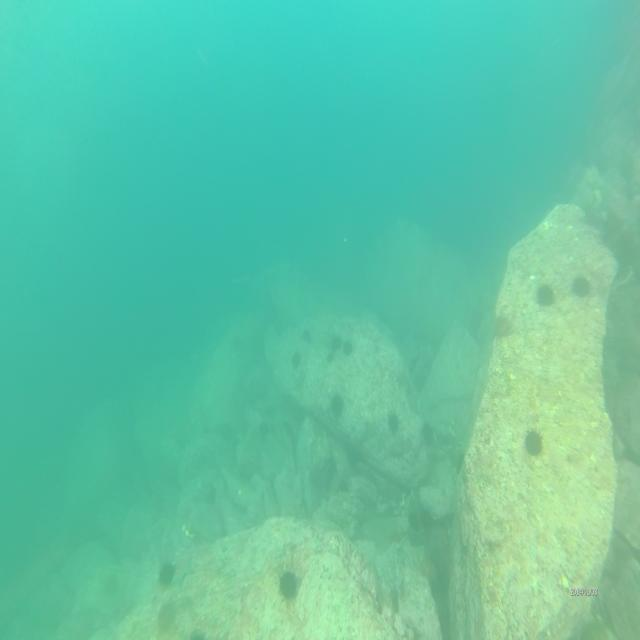echinus: (278, 564, 301, 605), (522, 425, 546, 457), (419, 415, 439, 447), (492, 312, 514, 340), (384, 402, 402, 436), (572, 272, 592, 302), (156, 602, 177, 630), (157, 558, 177, 587), (328, 386, 346, 418), (104, 569, 120, 597), (537, 284, 554, 308), (290, 344, 303, 372), (340, 338, 354, 357), (329, 331, 342, 350)
